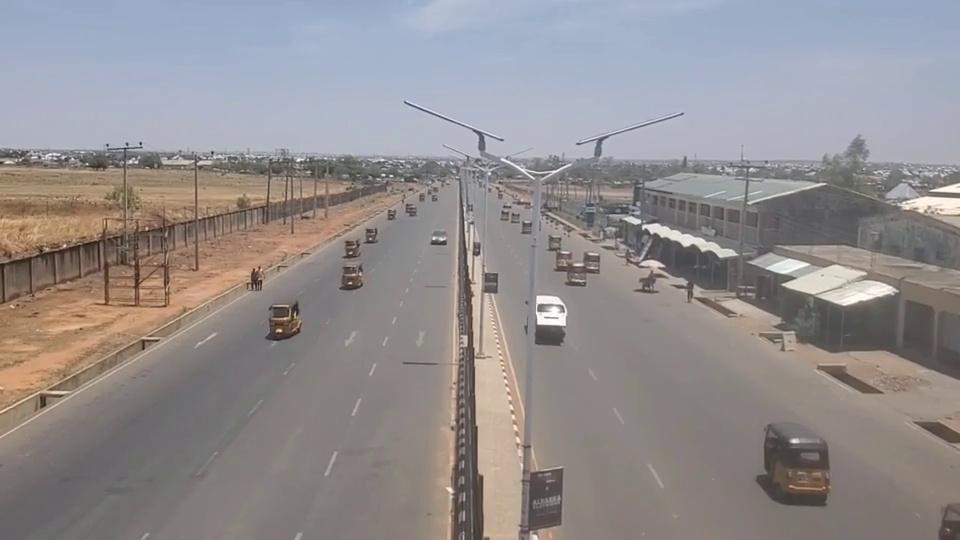keke: (762, 420, 831, 502), (267, 301, 302, 339)
